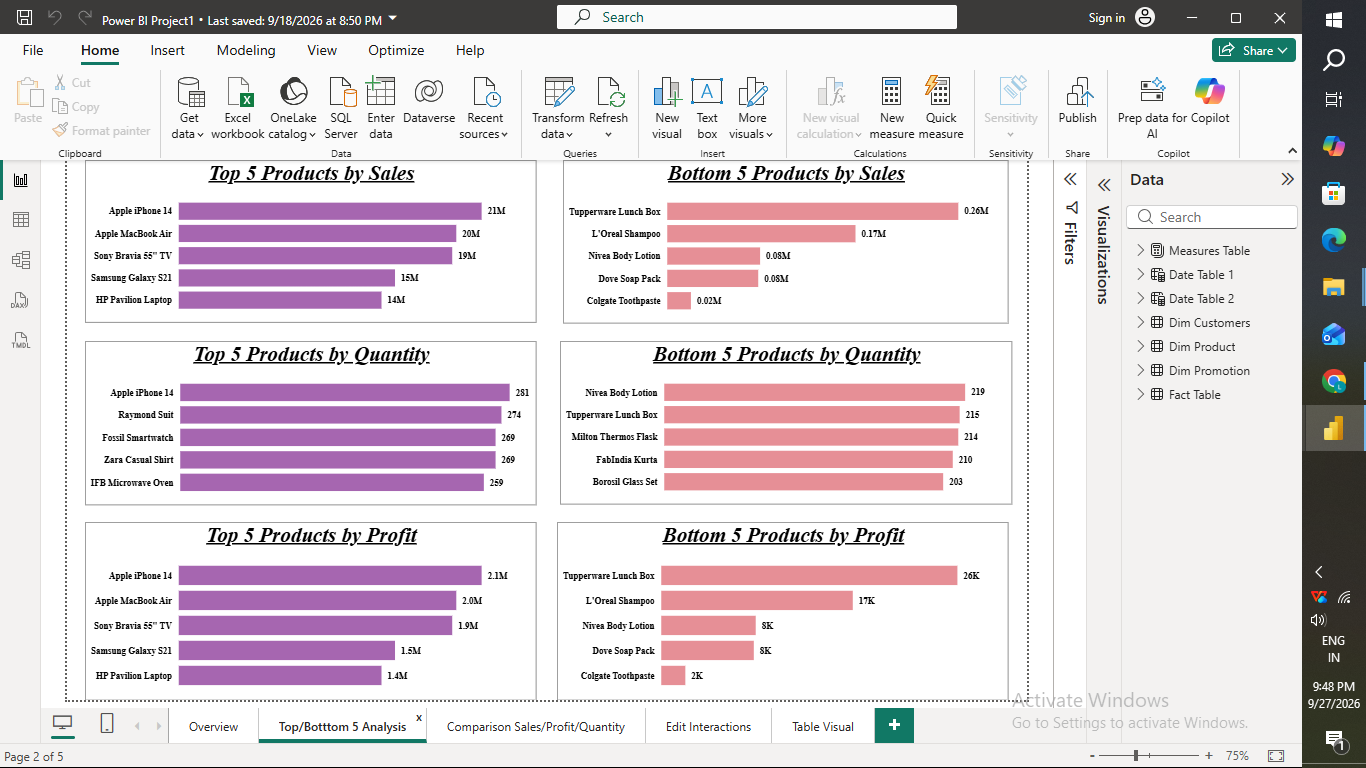

Layout of this report page (visuals, bound fields, positions):
{"tool":"powerbi","page":{"name":"Top/Botttom 5 Analysis","canvas":[1280,720],"ordinal":1},"visuals":[{"type":"barChart","title":"Top 5 Products by Sales","fields":{"Category":["Dim Product.Product Name"],"Y":["Sum(Fact Table.Net  Sales  )"]},"box":[24.5,0,601.9,217],"z":0},{"type":"barChart","title":"Bottom 5 Products by Sales","fields":{"Category":["Dim Product.Product Name"],"Y":["Sum(Fact Table.Net  Sales  )"]},"box":[661.2,0,594,217.9],"z":1000},{"type":"barChart","title":"Top 5 Products by Quantity","fields":{"Category":["Dim Product.Product Name"],"Y":["Sum(Fact Table.Units Sold)"]},"box":[24.5,241.5,601.9,218.9],"z":2000},{"type":"barChart","title":"Bottom 5 Products by Quantity","fields":{"Category":["Dim Product.Product Name"],"Y":["Sum(Fact Table.Units Sold)"]},"box":[656.7,241.8,603,217.9],"z":3000},{"type":"barChart","title":"Top 5 Products by Profit","fields":{"Category":["Dim Product.Product Name"],"Y":["Sum(Fact Table.Profit)"]},"box":[24.5,483,601.9,237.7],"z":4000},{"type":"barChart","title":"Bottom 5 Products by Profit","fields":{"Category":["Dim Product.Product Name"],"Y":["Sum(Fact Table.Profit)"]},"box":[652.8,483,601.9,237.7],"z":5000}]}

Visuals, with their boxes on the page's 1280x720 design canvas (x1, y1, x2, y2). These are canvas units, not pixel positions in the 1366x768 screenshot, which may show the page scaled, cropped or inside an application window:
"Top 5 Products by Sales" barChart: bbox(24, 0, 626, 217)
"Bottom 5 Products by Sales" barChart: bbox(661, 0, 1255, 218)
"Top 5 Products by Quantity" barChart: bbox(24, 242, 626, 460)
"Bottom 5 Products by Quantity" barChart: bbox(657, 242, 1260, 460)
"Top 5 Products by Profit" barChart: bbox(24, 483, 626, 721)
"Bottom 5 Products by Profit" barChart: bbox(653, 483, 1255, 721)
